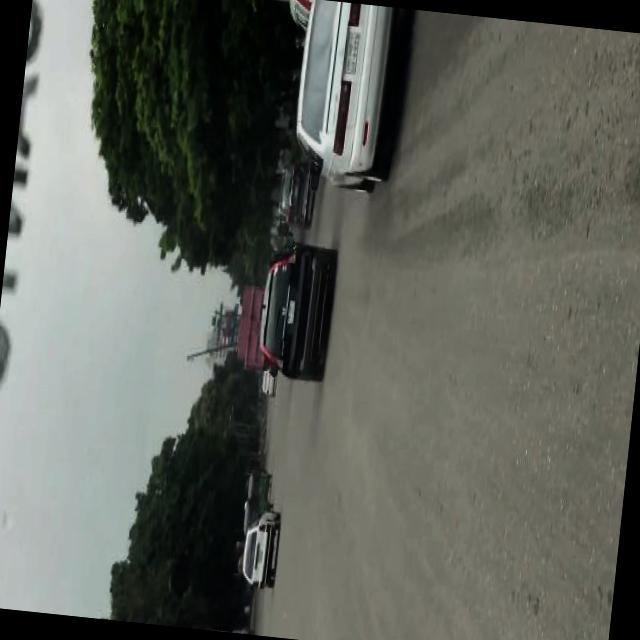car: (292, 1, 402, 182), (253, 236, 338, 383), (238, 509, 280, 592), (273, 162, 318, 232), (260, 372, 278, 398)
motorcycle: (245, 468, 273, 502)
